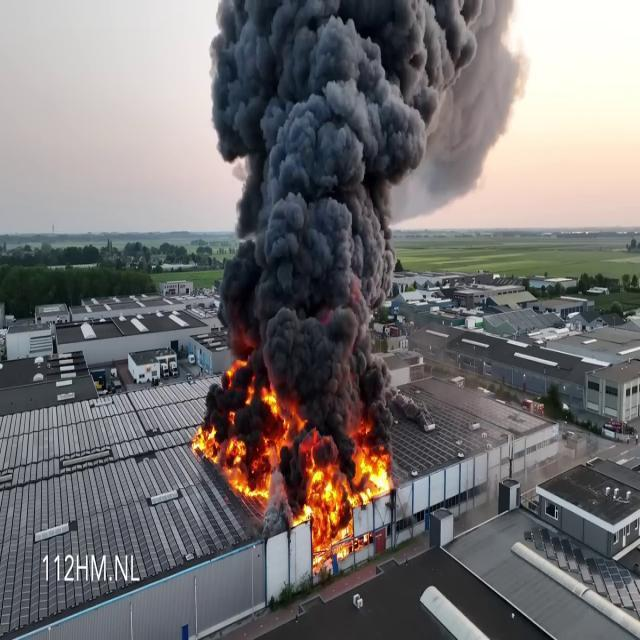Fire: (200, 381, 394, 557)
Smoke: (202, 0, 527, 396)
